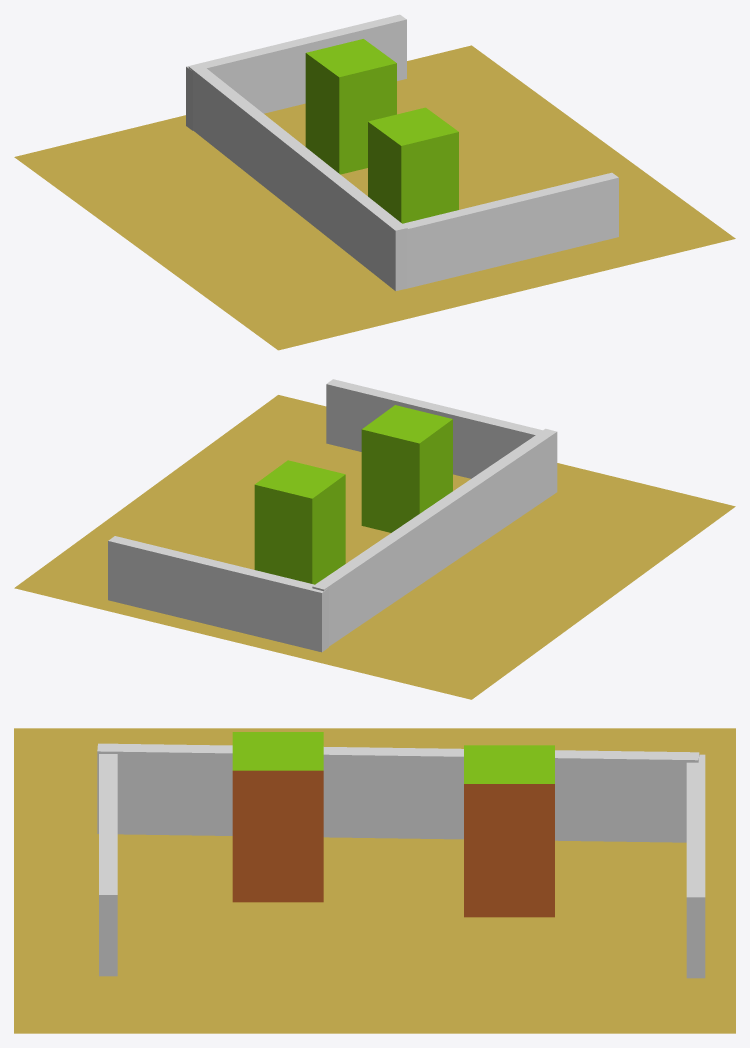
The model's file is demo.gltf.
The picture shows the model from 3 angles, top to bottom: view 1: azimuth 30°, elevation 25°; view 2: azimuth 150°, elevation 25°; view 3: azimuth 270°, elevation 25°; orthographic projection. The views are drawn at different scales.
Parts seen in each view (by area): view 1: Plane, Cube, Cube.002, Cube.004, Cube.003, Cube.001; view 2: Plane, Cube, Cube.001, Cube.004, Cube.003, Cube.002; view 3: Plane, Cube, Cube.004, Cube.003, Cube.001, Cube.002.
Part boxes in pixels (x1,y1,x2,y2): Plane: (14,45,735,350); Cube: (188,63,407,291); Cube.002: (402,172,618,288); Cube.004: (305,39,396,174); Cube.003: (368,107,458,223); Cube.001: (186,14,406,130); Plane: (14,395,735,699); Cube: (312,428,557,646); Cube.001: (108,536,328,652); Cube.004: (254,460,345,584); Cube.003: (361,405,452,532); Cube.002: (326,379,542,478); Plane: (14,728,735,1033); Cube: (97,743,699,842); Cube.004: (464,745,554,917); Cube.003: (232,732,323,902); Cube.001: (686,754,705,978); Cube.002: (99,754,117,976).
Bounding box in the file's own units: 15.83 × 3.28 × 15.83.
